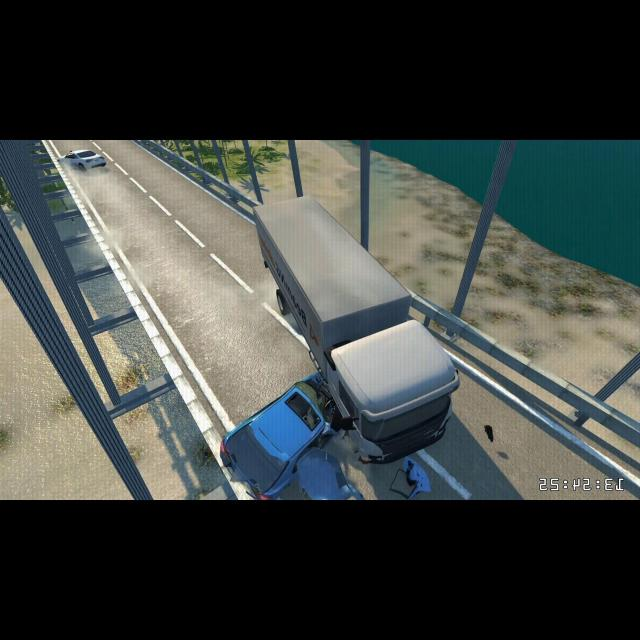severe: (218, 193, 462, 497)
